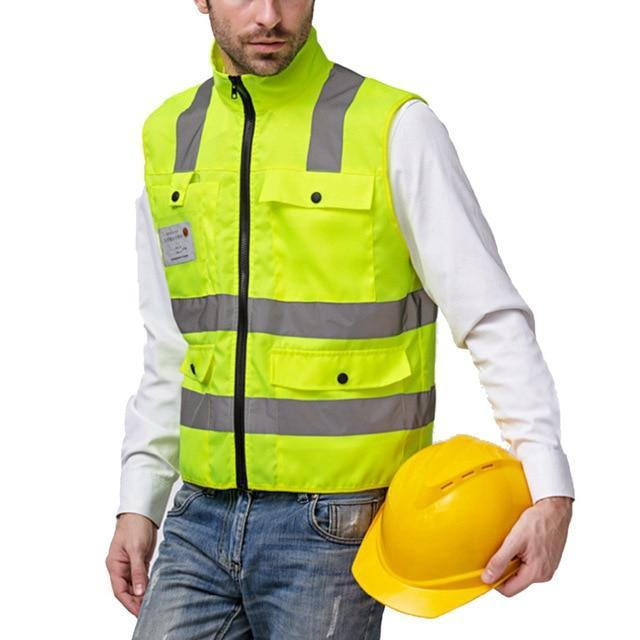Reflective-Jacket: (145, 45, 442, 518)
Safety-Helmet: (342, 431, 537, 622)
